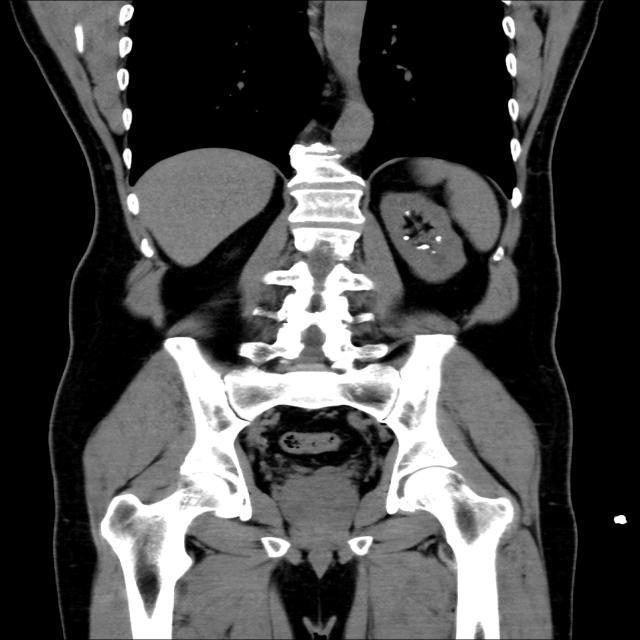kidneystone: (417, 244, 430, 251), (435, 236, 442, 242)
